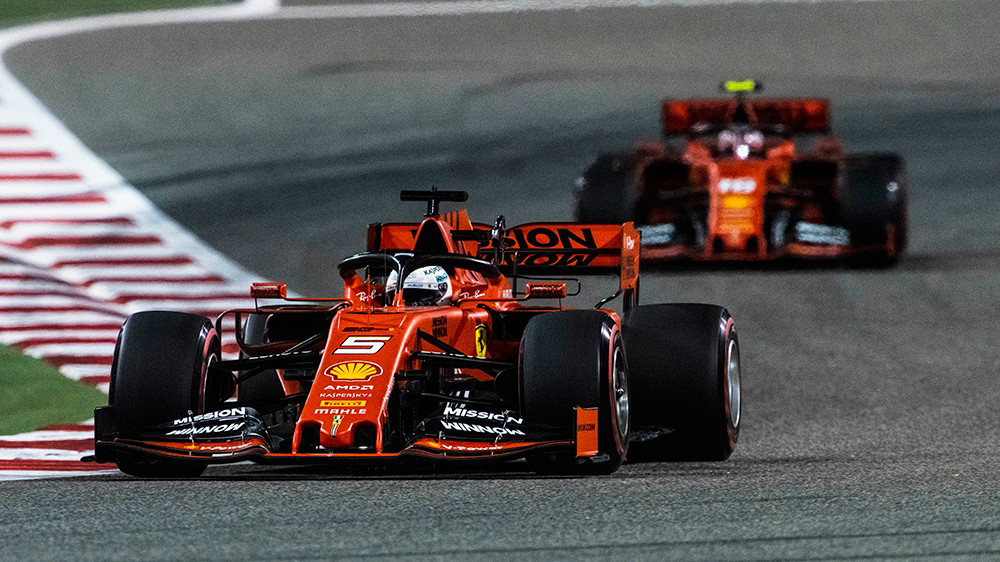F1 Car: (85, 189, 748, 479), (568, 76, 919, 279)
